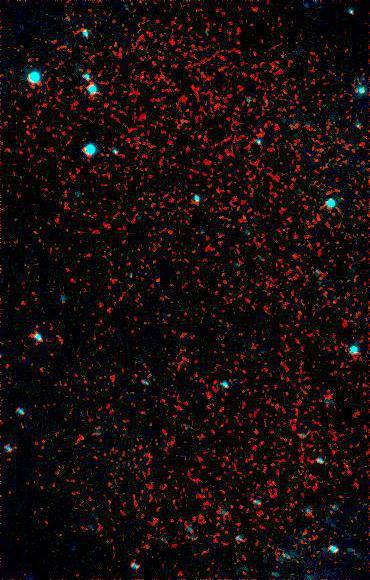star: (281, 243, 311, 273)
